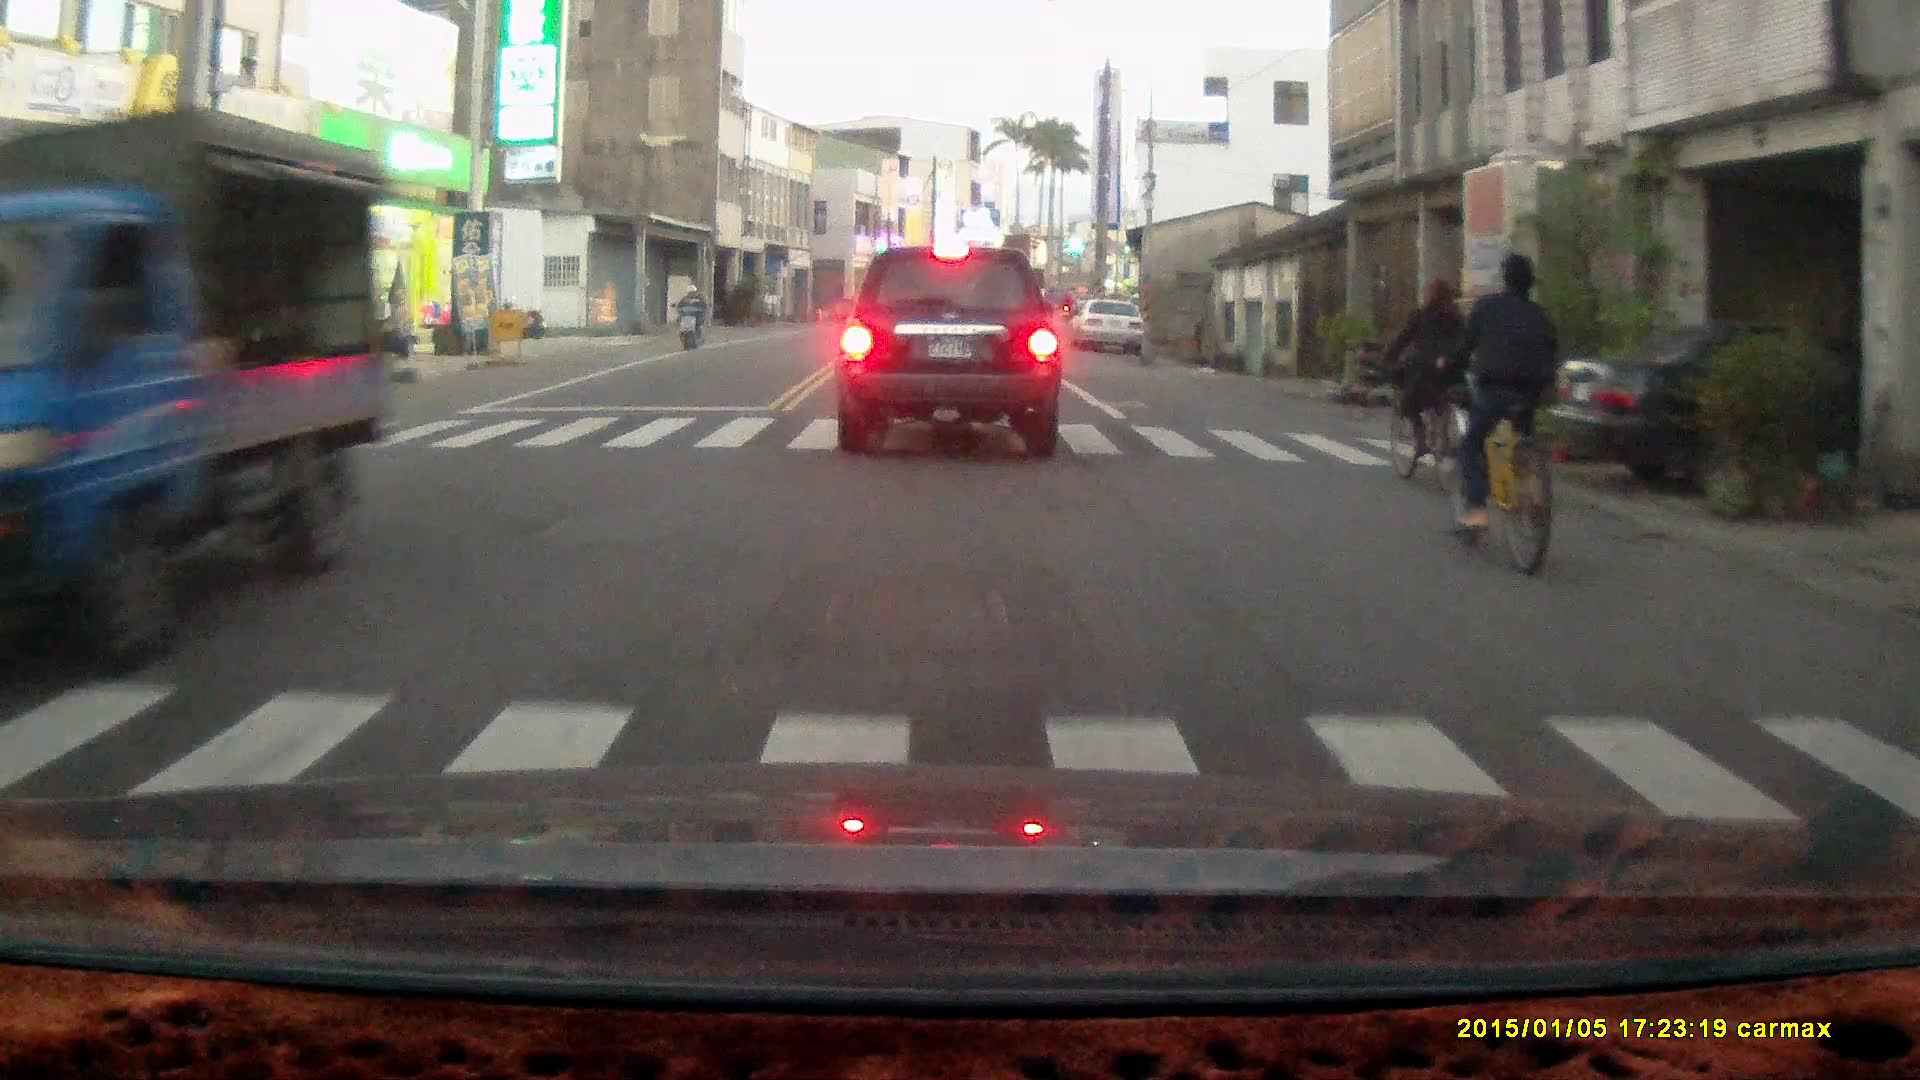rider: (1429, 252, 1557, 580), (1380, 278, 1470, 500), (674, 280, 705, 353)
vehicle: (1, 106, 383, 666), (1546, 318, 1920, 504), (831, 245, 1067, 459), (1073, 299, 1148, 358)
